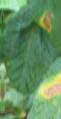Tomato Early blight leaf: (15, 37, 61, 119)
